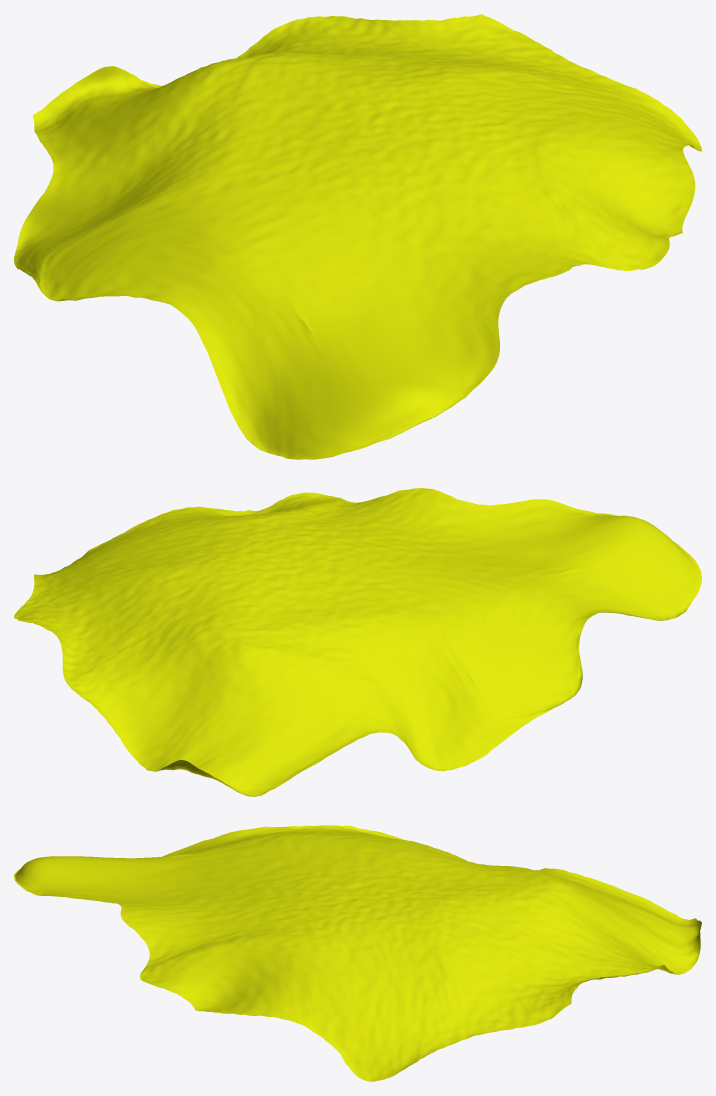
The model's file is beach4.glb.
The picture shows the model from 3 angles, top to bottom: view 1: azimuth 30°, elevation 25°; view 2: azimuth 150°, elevation 25°; view 3: azimuth 270°, elevation 25°; orthographic projection. The views are drawn at different scales.
Parts seen in each view (by area): view 1: Plane; view 2: Plane; view 3: Plane.
Part boxes in pixels (left/top/right/bottom): Plane: left=14, top=14, right=701, bottom=459; Plane: left=14, top=488, right=701, bottom=796; Plane: left=14, top=825, right=701, bottom=1081.
Bounding box in the file's own units: 126 × 23.27 × 149.
